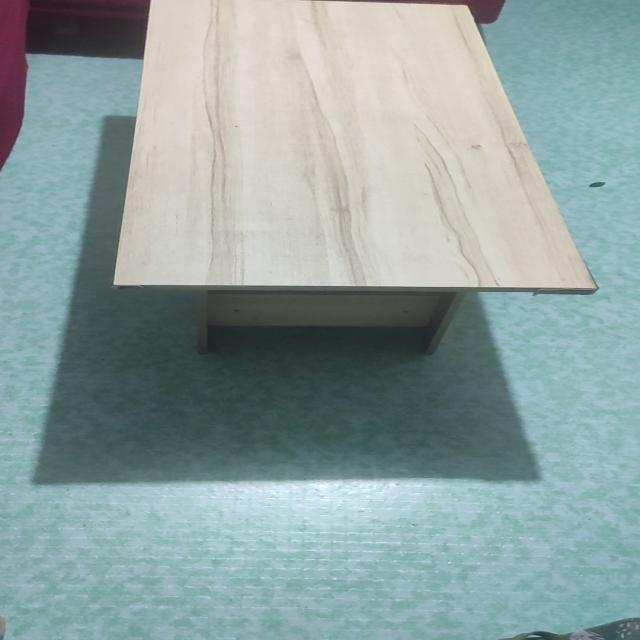table: (107, 0, 599, 360)
